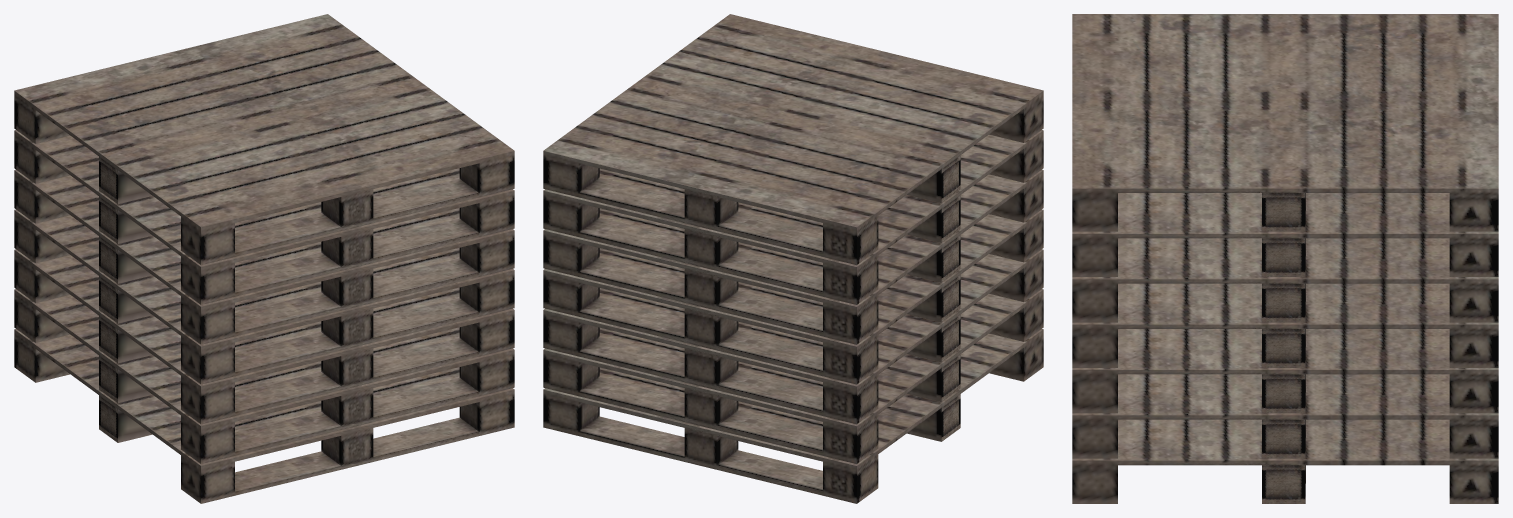
Rendered from stackingTray.glb.
3 views of the same model, side by side, from view 1: azimuth 30°, elevation 25°; view 2: azimuth 150°, elevation 25°; view 3: azimuth 270°, elevation 25° (orthographic). The views are drawn at different scales.
Visible parts, largest first — view 1: 堆叠托盘; view 2: 堆叠托盘; view 3: 堆叠托盘.
Part boxes in pixels (x1,y1,x2,y2): 堆叠托盘: (14, 14, 514, 503); 堆叠托盘: (543, 14, 1043, 503); 堆叠托盘: (1072, 14, 1498, 503).
Bounding box in the file's own units: 0.8868 × 0.7472 × 0.9154.
1 material, 1 textured.
